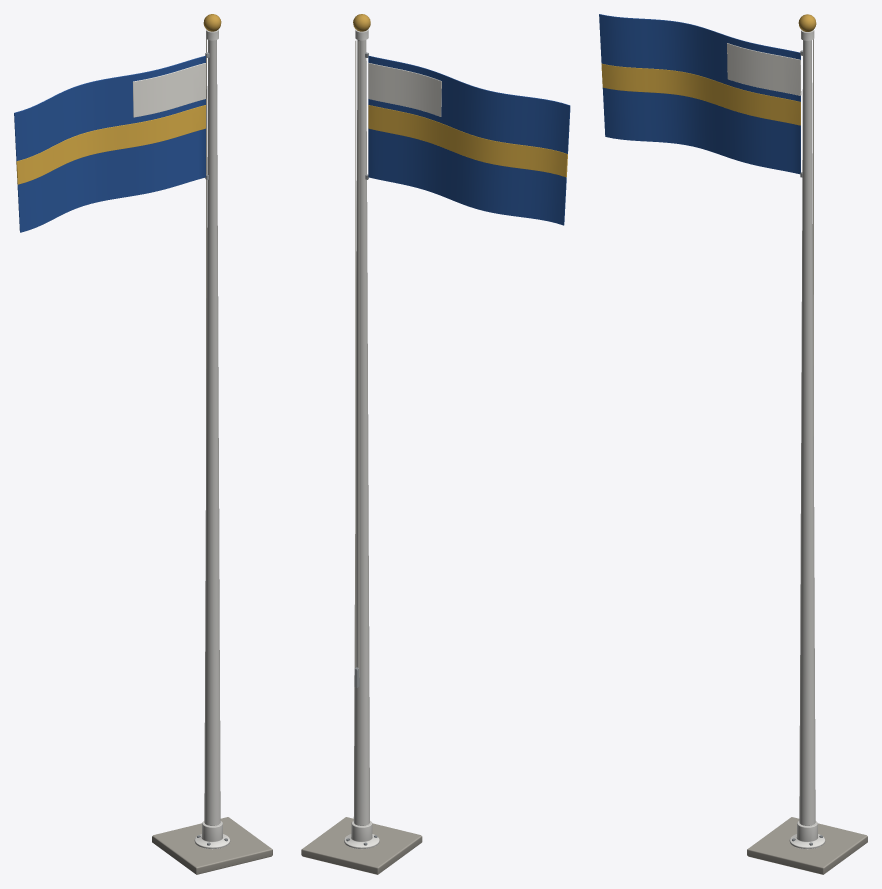
The model's file is flagPole.glb.
3 renders of one model, left to right at view 1: azimuth 30°, elevation 25°; view 2: azimuth 150°, elevation 25°; view 3: azimuth 330°, elevation 25°, orthographic.
Parts seen in each view (by area): view 1: flag, flagPole; view 2: flag, flagPole; view 3: flag, flagPole.
Boxes of the visible parts, x1,y1,x2,y2 form: flag: (14, 55, 206, 232); flagPole: (152, 14, 272, 874); flag: (368, 56, 570, 225); flagPole: (301, 14, 422, 874); flag: (599, 14, 801, 174); flagPole: (747, 14, 867, 874).
Size of the model in its own units: 1.87 by 6.17 by 0.6.
